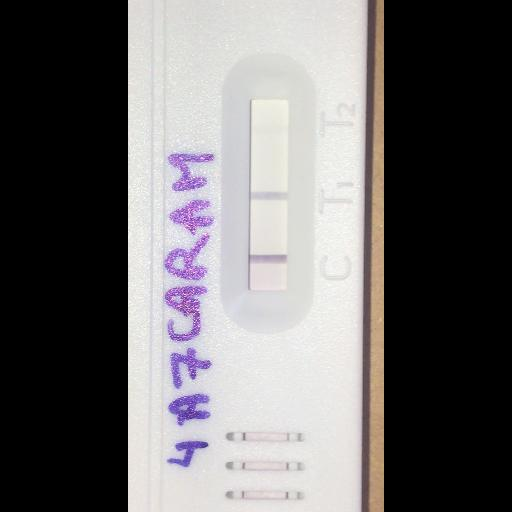Pos: (128, 0, 365, 511)
